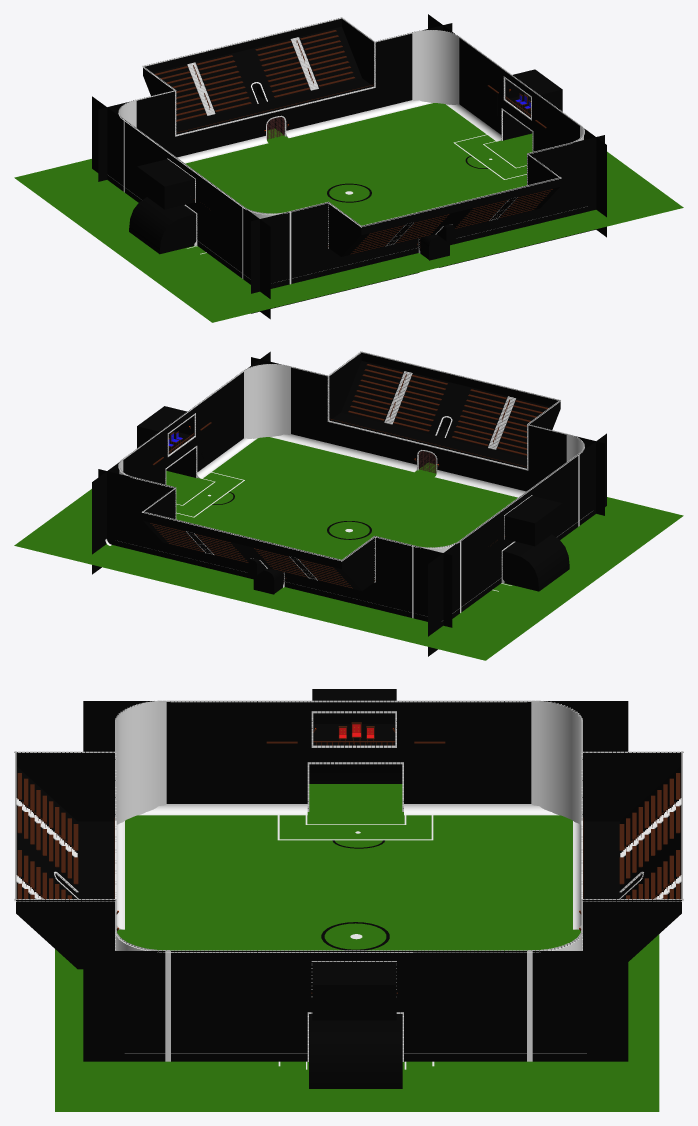
Rendered from Map_48.FBX.
The picture shows the model from 3 angles, top to bottom: view 1: azimuth 30°, elevation 25°; view 2: azimuth 150°, elevation 25°; view 3: azimuth 270°, elevation 25°; orthographic projection. The views are drawn at different scales.
Parts seen in each view (by area): view 1: Ground, Stands, Stands001, Goal001, Goal; view 2: Ground, Stands001, Stands, Goal001, Goal; view 3: Ground, Goal, Goal001, Stands001, Stands, FlagRed02, FlagRed01.
Boxes of the visible parts, x1,y1,x2,y2 form: Ground: (14, 103, 683, 322); Stands: (98, 17, 461, 192); Stands001: (241, 123, 604, 313); Goal001: (92, 96, 270, 319); Goal: (428, 14, 606, 237); Ground: (14, 437, 683, 660); Stands001: (242, 351, 604, 526); Stands: (98, 457, 461, 627); Goal001: (428, 433, 606, 656); Goal: (92, 351, 270, 574); Ground: (55, 784, 659, 1111); Goal: (83, 950, 628, 1088); Goal001: (83, 689, 628, 815); Stands001: (14, 700, 170, 1061); Stands: (527, 700, 683, 1061); FlagRed02: (266, 741, 297, 795); FlagRed01: (414, 741, 445, 795).
Size of the model in its own units: 533 by 101 by 430.
